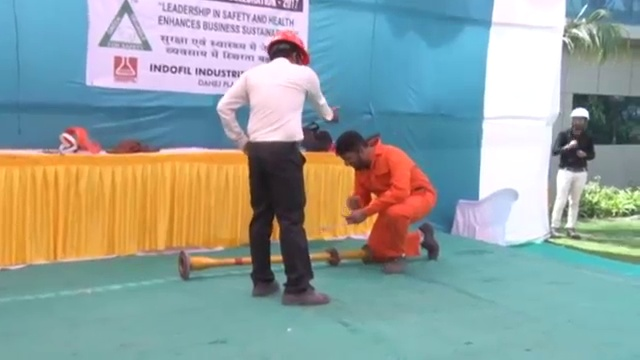helmet: (268, 29, 311, 65), (569, 106, 591, 122)
helmet_off: (336, 131, 373, 170)
helmet_on: (265, 29, 311, 70), (567, 104, 591, 135)
person: (215, 30, 337, 308), (332, 130, 441, 273), (550, 103, 597, 240)
